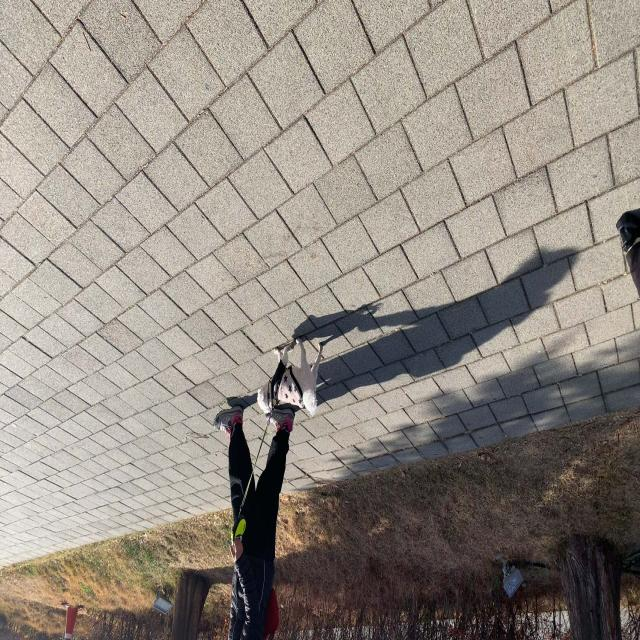Leashed_Dog: (316, 123, 402, 303)
